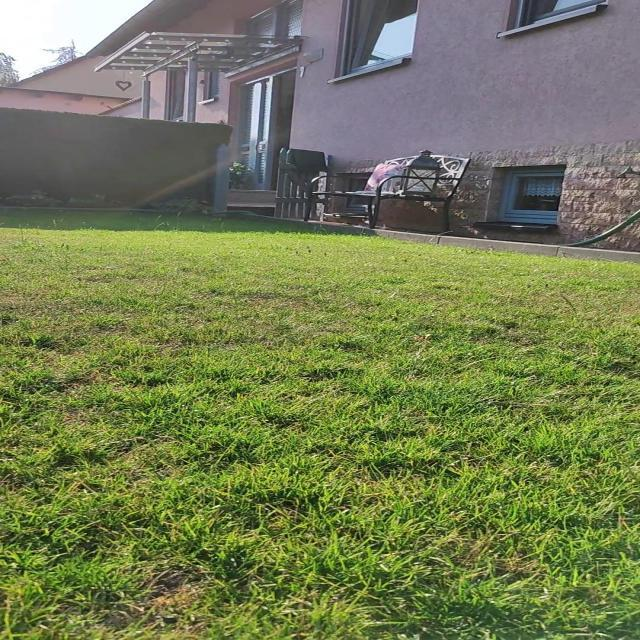lawn: (0, 211, 640, 640)
